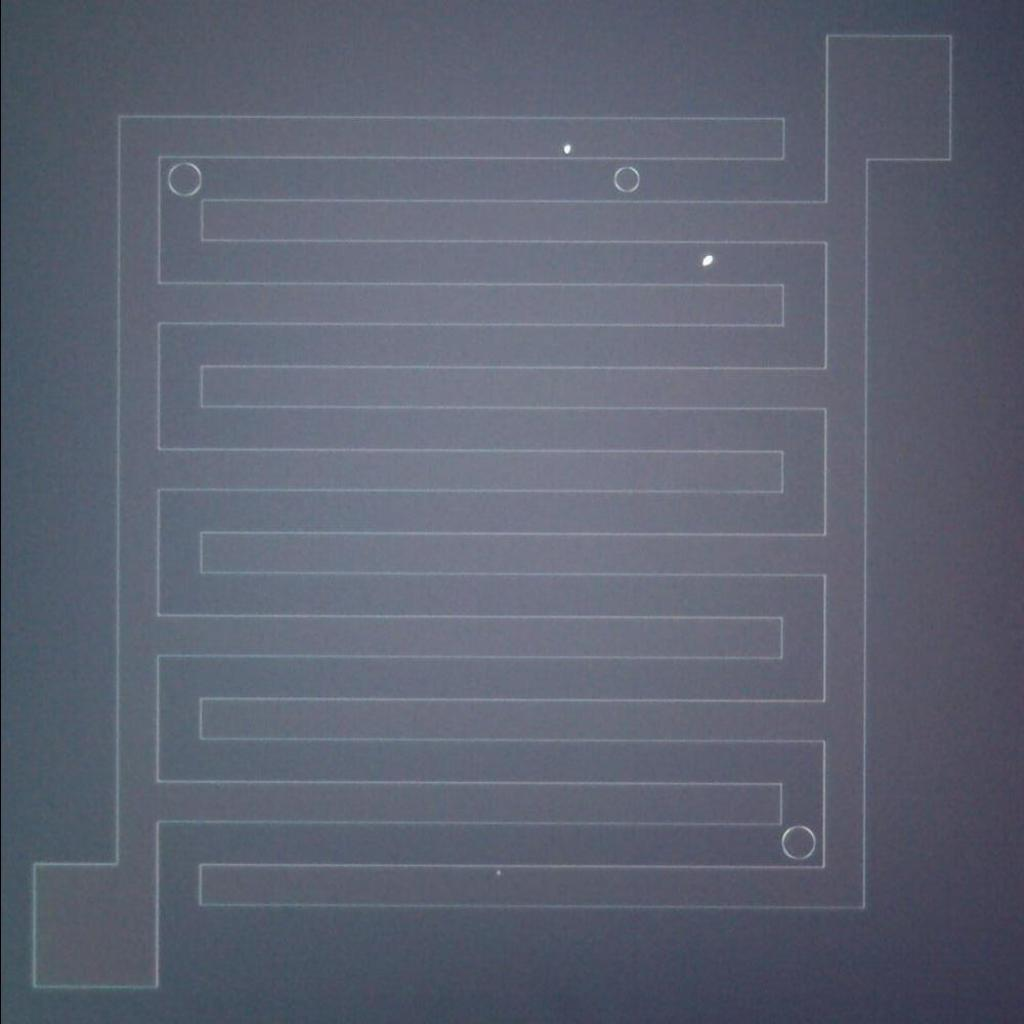circle: (772, 820, 820, 869), (164, 158, 204, 204), (606, 162, 642, 200)
spot: (557, 138, 580, 161), (695, 251, 718, 272)
